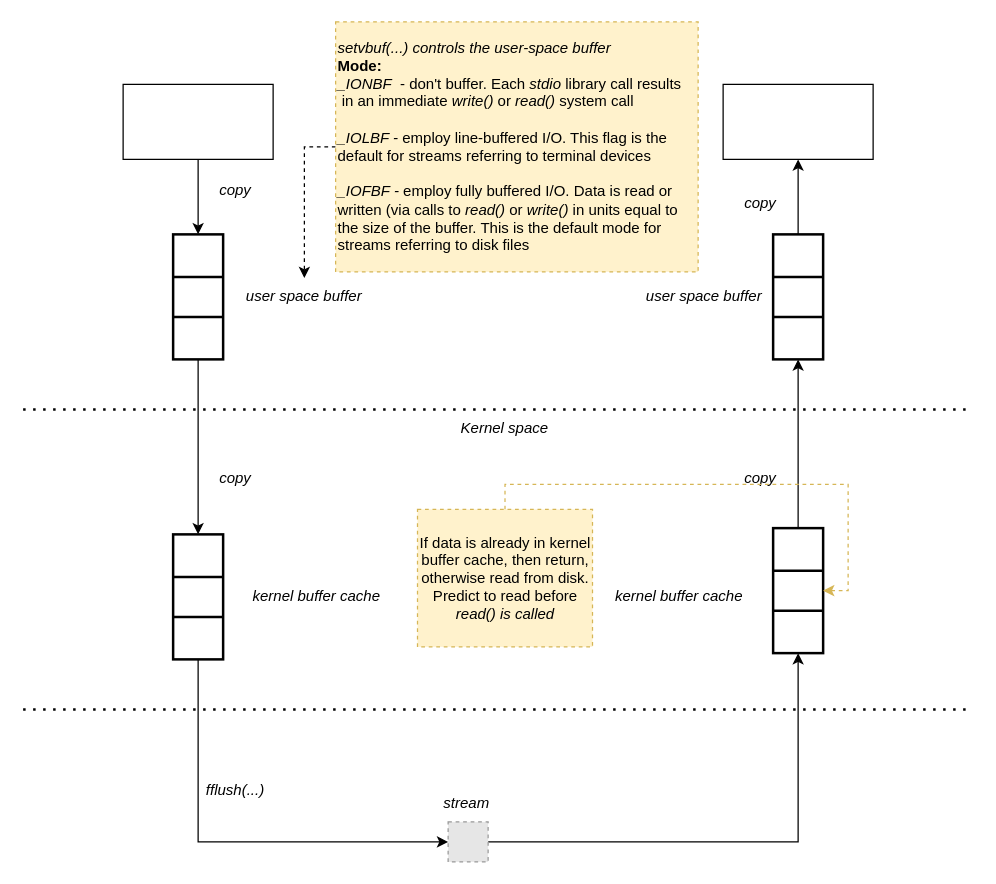
This 996x884 diagram has some shape labels left out. Grey dashed boxes stand in for pictures. Each missing label, with the centre of its shape:
"read()" goes at [797,121].
"write()" goes at [197,121].
